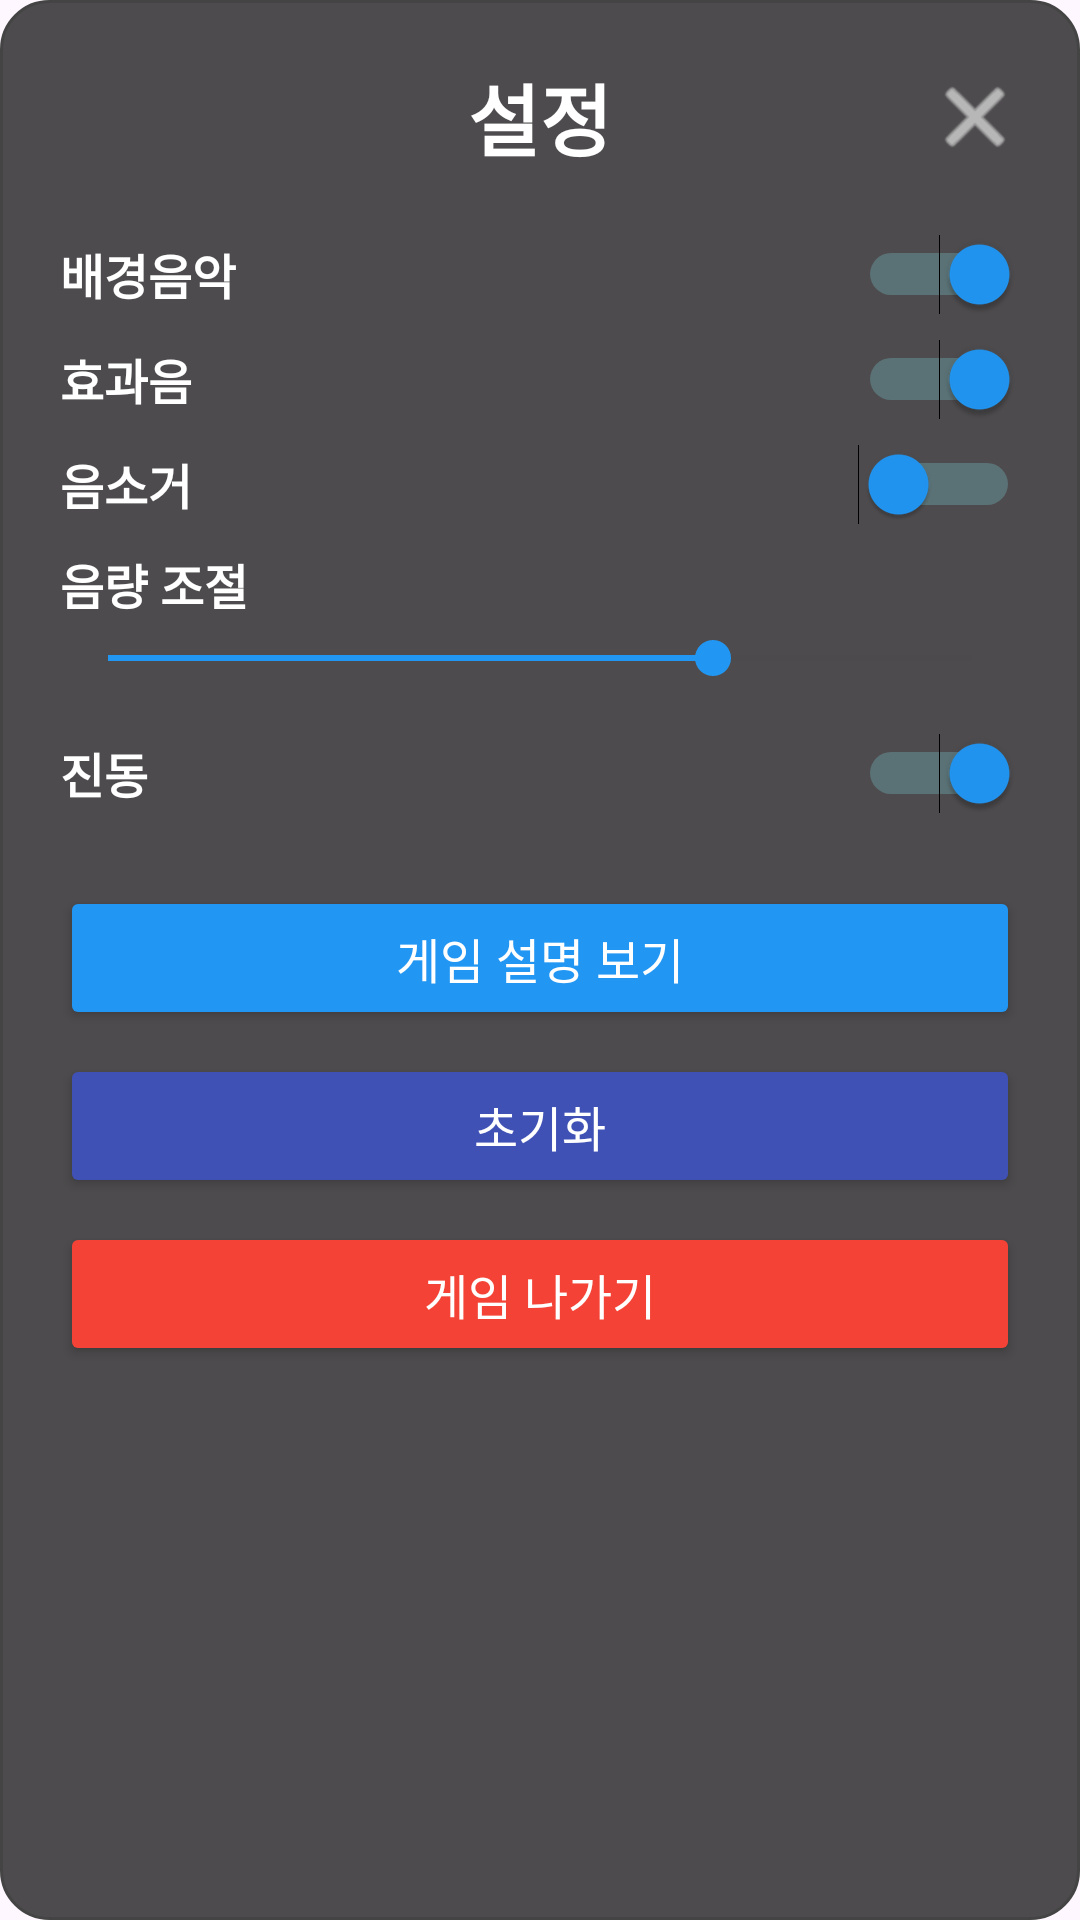

Locate icon controls on the screen. Image size 1080x1920, boxes as [x1=x1, y1=y1, x2=x2, y2=y2].
닫기: [x1=945, y1=87, x2=1005, y2=147]
